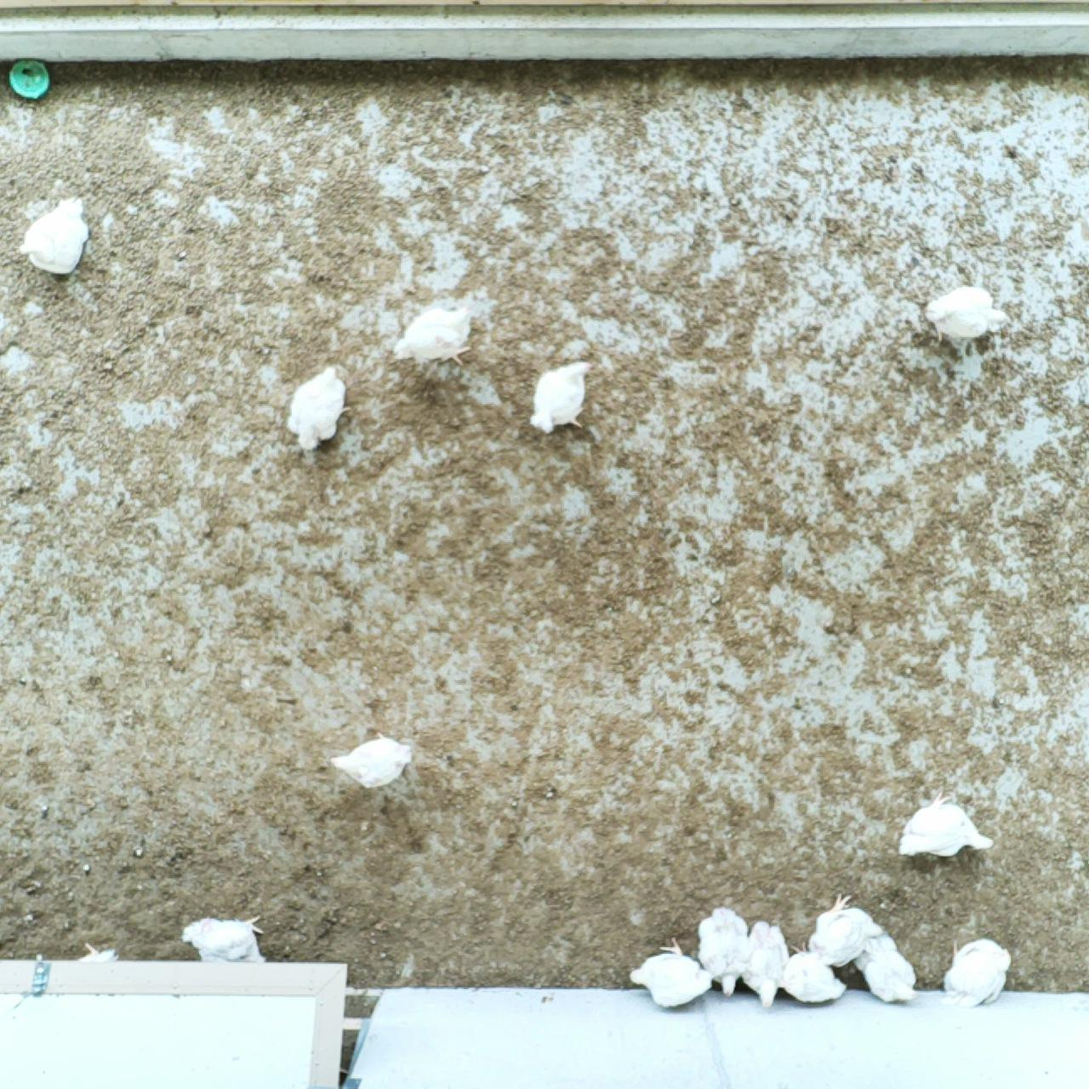chicken: (893, 786, 996, 861), (383, 299, 483, 371), (277, 363, 356, 453), (627, 934, 713, 1016), (13, 194, 95, 279), (937, 931, 1014, 1013), (806, 891, 885, 967), (527, 360, 603, 437), (921, 283, 1009, 348), (694, 904, 751, 1001), (851, 934, 924, 1009), (330, 730, 416, 791), (737, 921, 791, 1011), (182, 914, 267, 965), (785, 941, 848, 1006)
